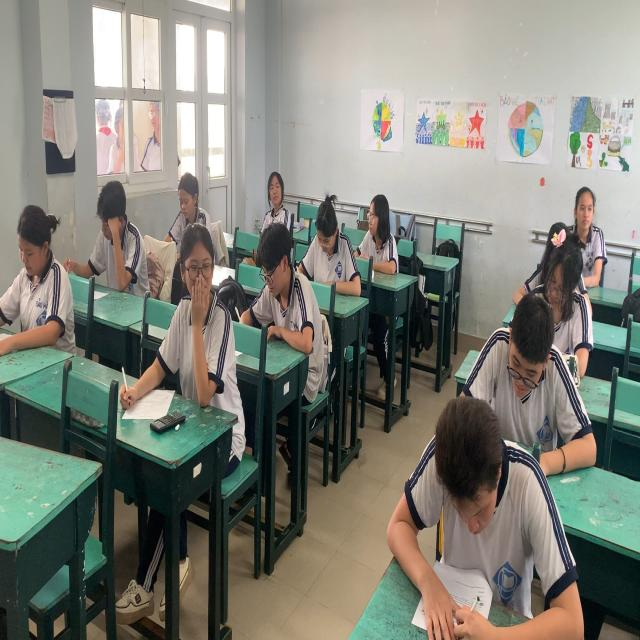not_cheating: (387, 416, 594, 584), (146, 221, 256, 459), (472, 277, 594, 480), (251, 220, 350, 420), (88, 164, 180, 346), (0, 196, 83, 395), (523, 203, 599, 380), (304, 177, 390, 330), (339, 173, 425, 322), (161, 150, 247, 293), (246, 113, 328, 253), (573, 151, 614, 330)
